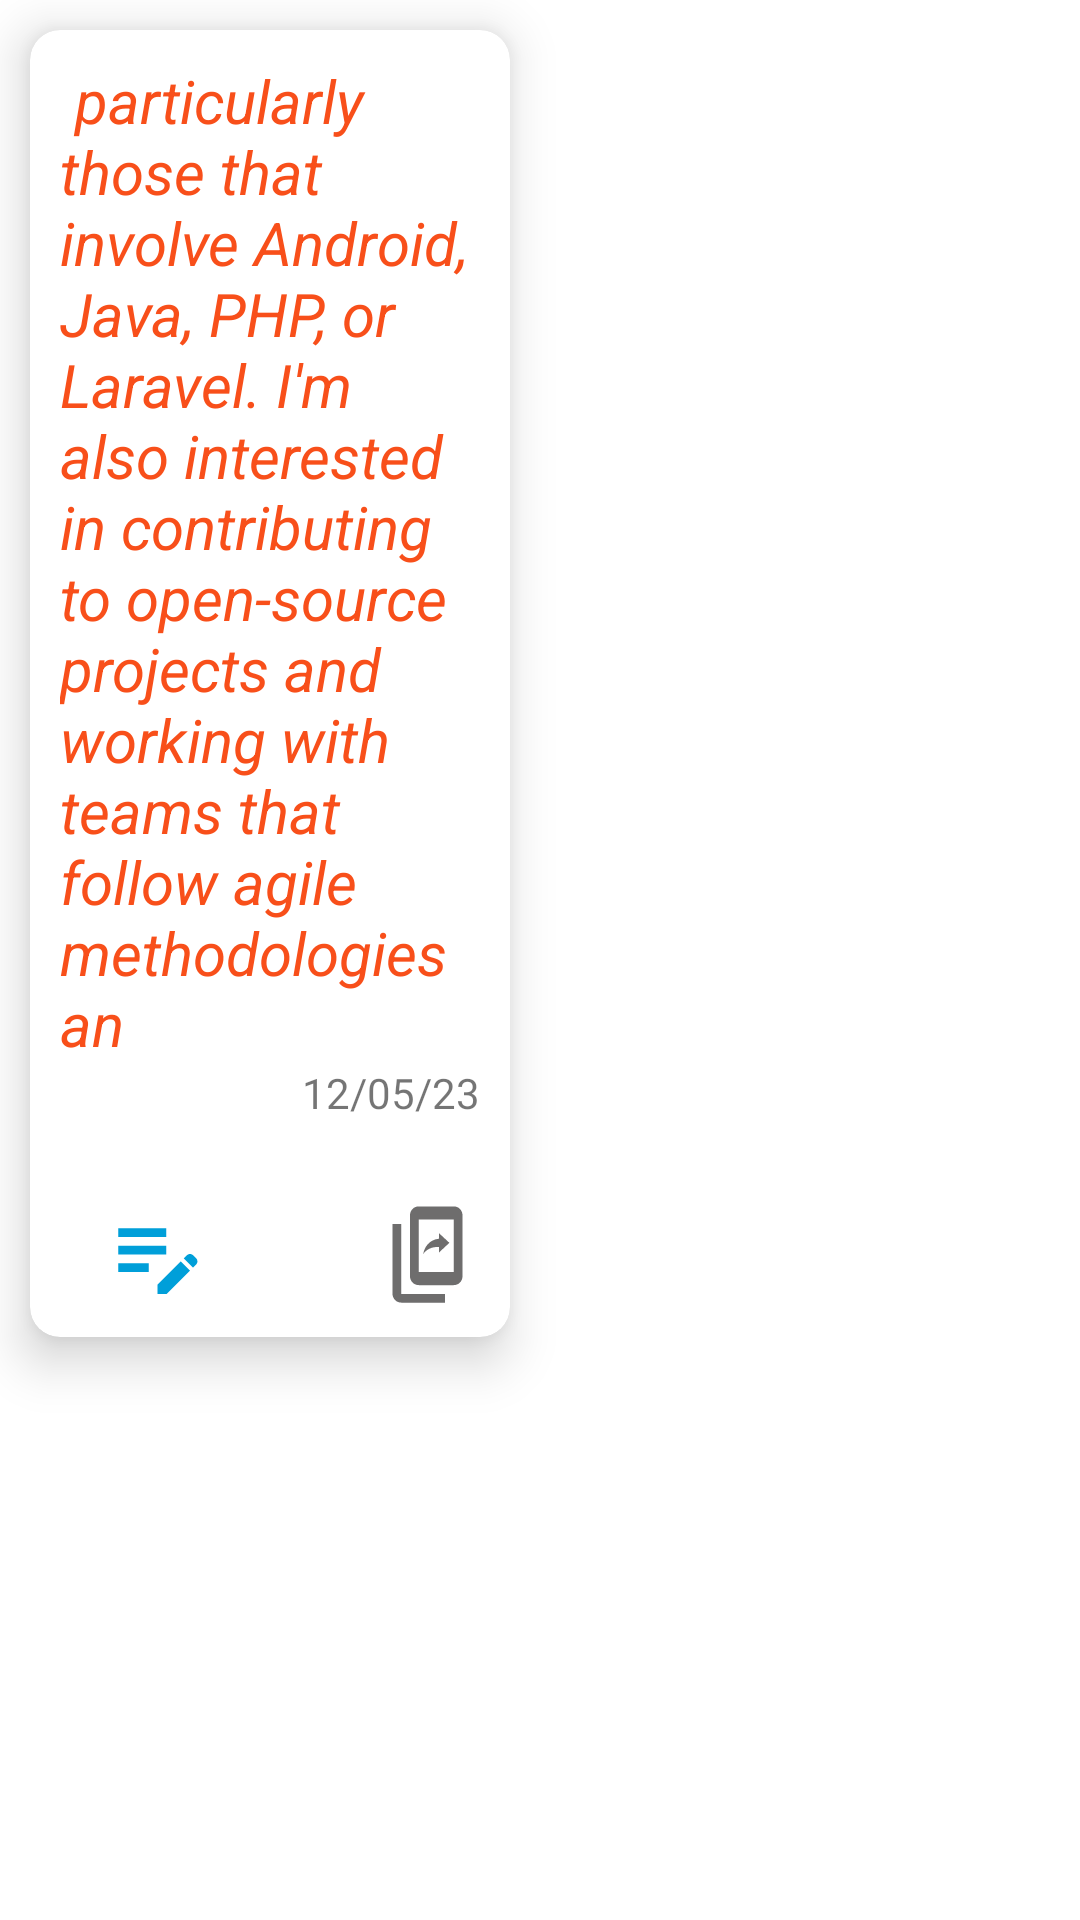

Locate icon controls on the screen. Image size 1080 x 1920, boxes as (x1,y1,x2,y2).
edit note: (118,1228,198,1294)
offline share: (392,1206,463,1303)
